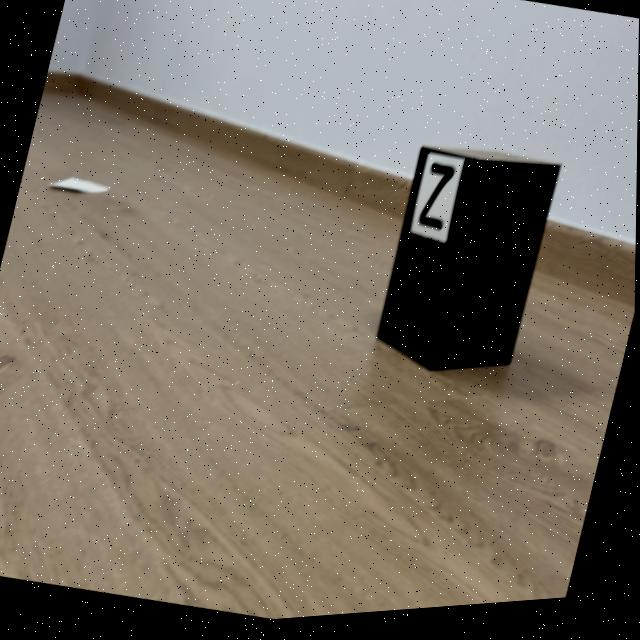Z: (419, 169, 455, 237)
